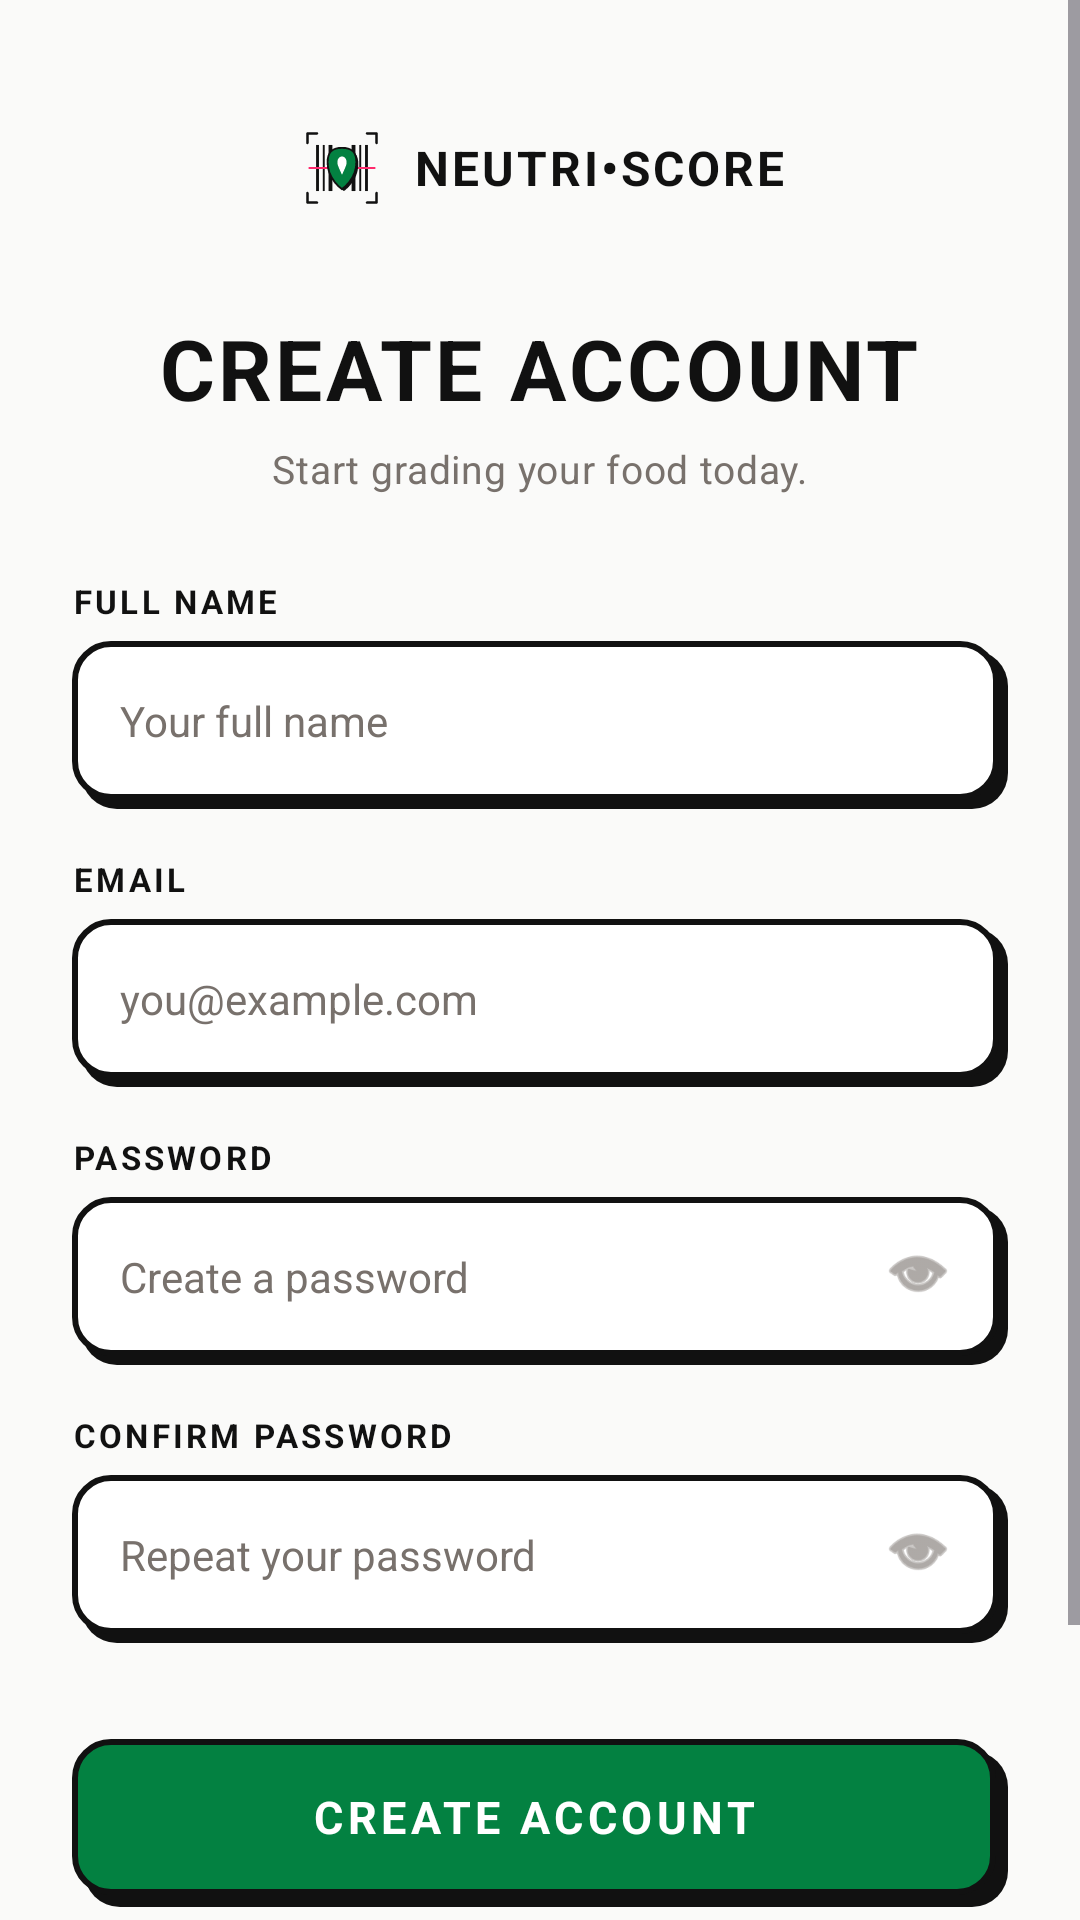

Where to tap for icons on this 1080×1920 app screen, as (x,y):
barcode shield: (342,168)
